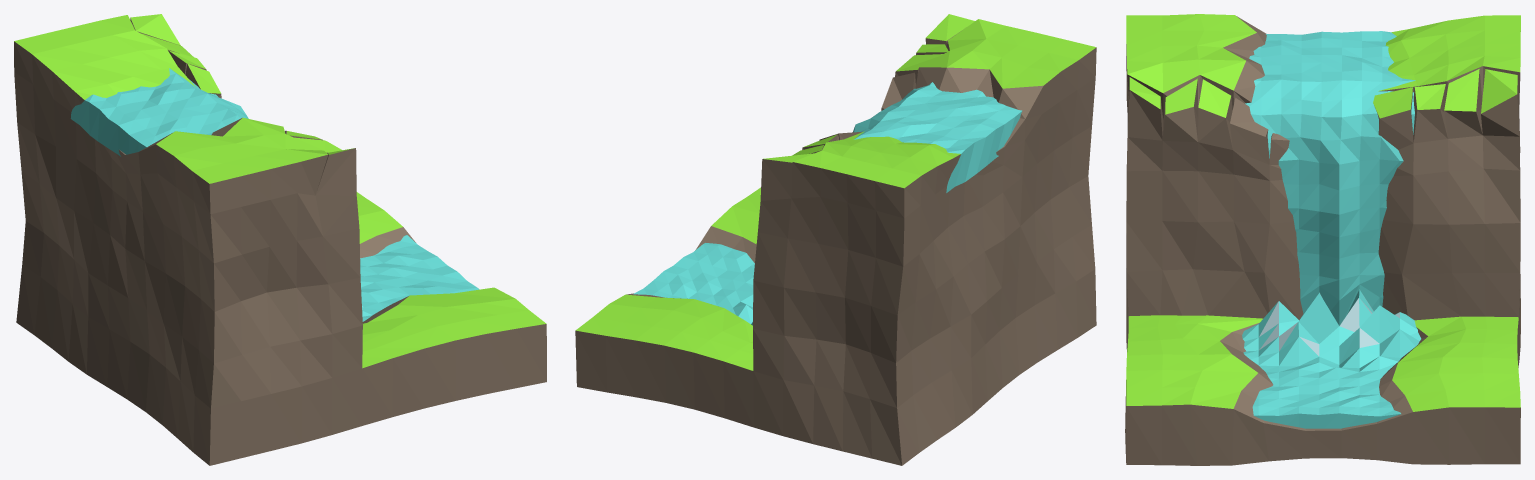
Rendered from LowPoly_WaterFall.fbx.
The picture shows the model from 3 angles, left to right: view 1: azimuth 30°, elevation 25°; view 2: azimuth 150°, elevation 25°; view 3: azimuth 270°, elevation 25°; orthographic projection. The views are drawn at different scales.
Visible parts, largest first — view 1: Cliff and Ground, Water River; view 2: Cliff and Ground, Water River; view 3: Cliff and Ground, Water River.
Part boxes in pixels (x1=…): Cliff and Ground: x1=14, y1=14, x2=546, y2=465; Water River: x1=70, y1=68, x2=479, y2=321; Cliff and Ground: x1=575, y1=14, x2=1096, y2=465; Water River: x1=633, y1=82, x2=1022, y2=325; Cliff and Ground: x1=1125, y1=14, x2=1520, y2=465; Water River: x1=1242, y1=31, x2=1421, y2=428.
Size of the model in its own units: 758 by 605 by 755.
